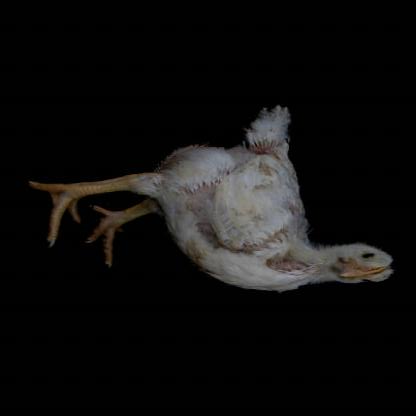Unhealthy: (25, 96, 401, 314)
